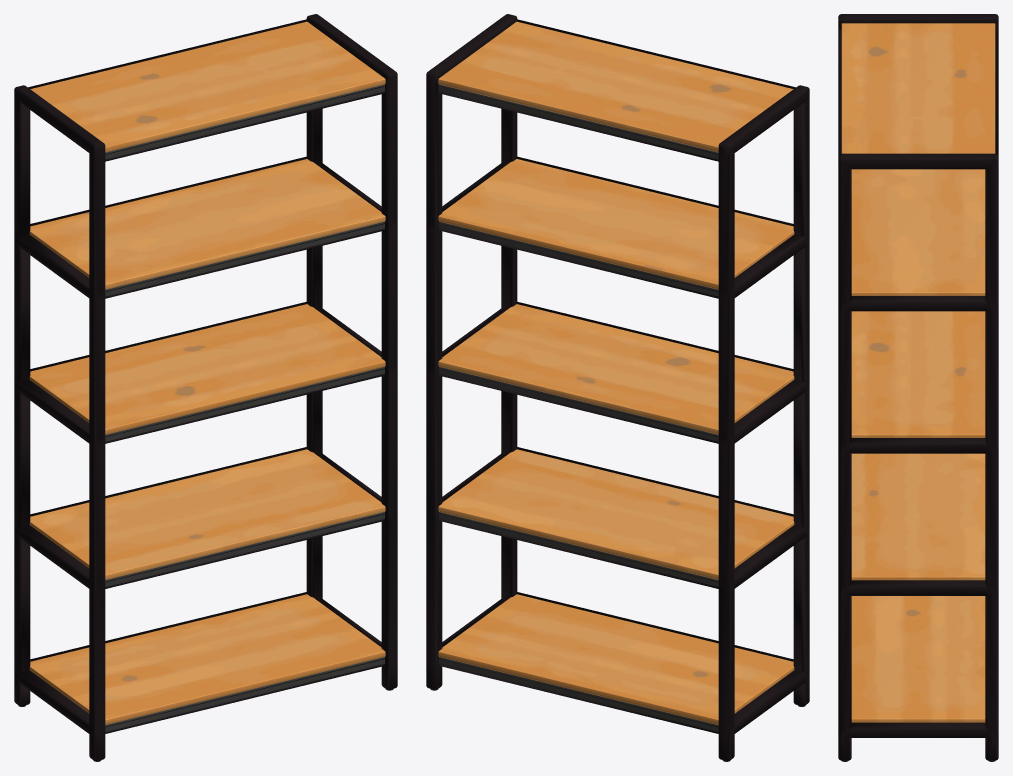
Rendered from SM_Int_SteelShelves.fbx.
3 views of the same model, side by side, from view 1: azimuth 30°, elevation 25°; view 2: azimuth 150°, elevation 25°; view 3: azimuth 270°, elevation 25° (orthographic). The views are drawn at different scales.
Parts seen in each view (by area): view 1: SM_Int_SteelShelves; view 2: SM_Int_SteelShelves; view 3: SM_Int_SteelShelves.
Boxes of the visible parts, x1,y1,x2,y2 form: SM_Int_SteelShelves: (14,14,397,761); SM_Int_SteelShelves: (426,14,809,761); SM_Int_SteelShelves: (838,14,998,761).
Size of what is drawn, in the model's own units: 1.11 by 2.16 by 0.5178.
